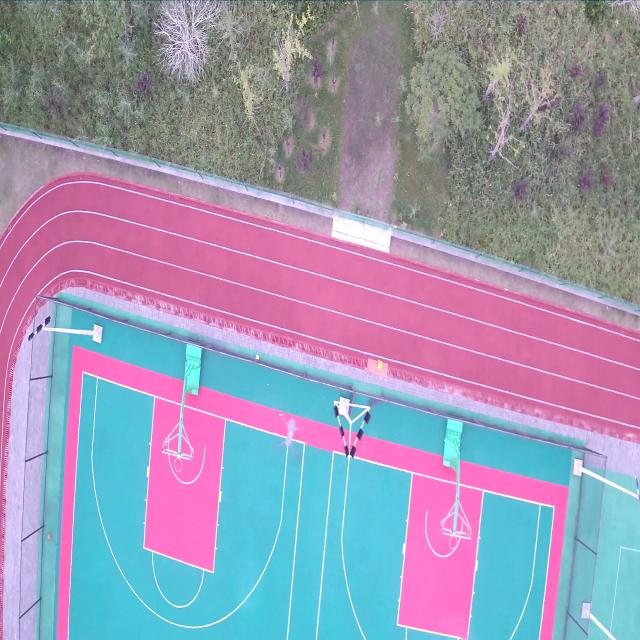UAV: (276, 412, 304, 460)
